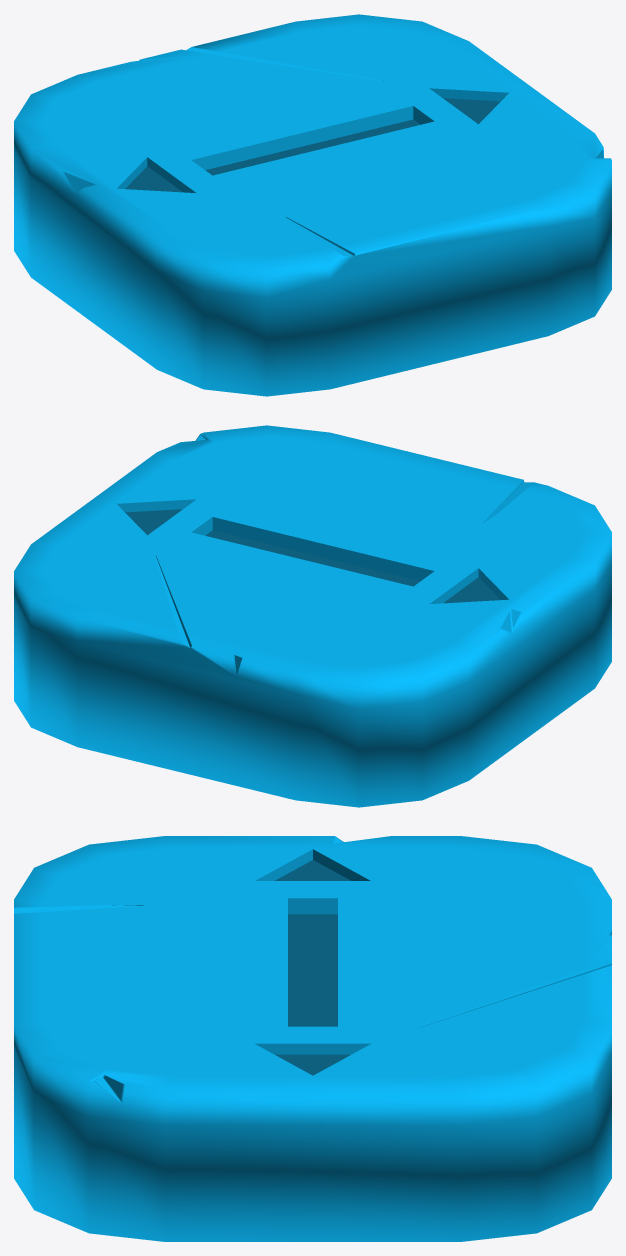
File: Plataforma_aguda_vertical.fbx
3 renders of one model, top to bottom at view 1: azimuth 30°, elevation 25°; view 2: azimuth 150°, elevation 25°; view 3: azimuth 270°, elevation 25°, orthographic. The views are drawn at different scales.
Parts seen in each view (by area): view 1: Platform, Cube.001, Cube.003, Cube.002; view 2: Platform, Cube.001, Cube.003, Cube.002; view 3: Platform, Cube.001, Cube.002, Cube.003.
Part boxes in pixels (bbox=[...]): Platform: bbox=[14, 14, 611, 396]; Cube.001: bbox=[205, 119, 420, 175]; Cube.003: bbox=[125, 166, 182, 192]; Cube.002: bbox=[443, 98, 500, 124]; Platform: bbox=[14, 425, 611, 807]; Cube.001: bbox=[205, 530, 420, 586]; Cube.003: bbox=[443, 577, 500, 603]; Cube.002: bbox=[125, 509, 182, 535]; Platform: bbox=[14, 836, 611, 1241]; Cube.001: bbox=[288, 914, 337, 1026]; Cube.002: bbox=[275, 1054, 350, 1075]; Cube.003: bbox=[275, 860, 350, 880].
Bounding box in the file's own units: 100 × 28.25 × 100.
